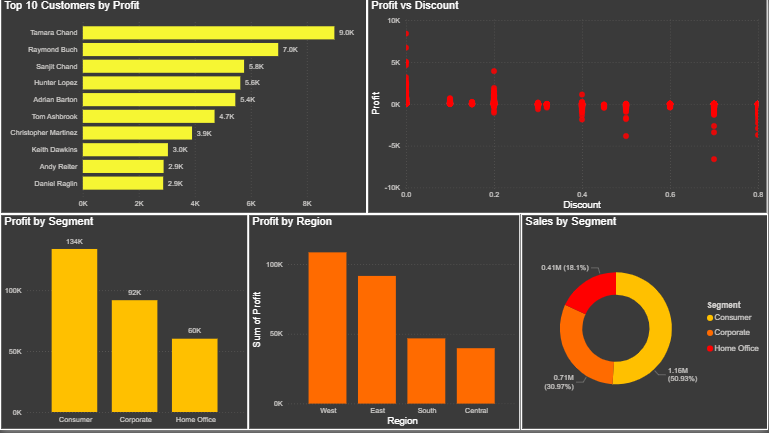

Layout of this report page (visuals, bound fields, positions):
{"tool":"powerbi","page":{"name":"Customer & Profitability ","canvas":[1280,720],"ordinal":2},"visuals":[{"type":"clusteredBarChart","title":"Top 10 Customers by Profit","fields":{"Category":["Sample - Superstore.Customer Name"],"Y":["Sum(Sample - Superstore.Profit)"]},"box":[0,0,612.3,360],"z":0},{"type":"donutChart","title":"Sales by Segment","fields":{"Category":["Sample - Superstore.Segment"],"Y":["Sum(Sample - Superstore.Sales)"]},"box":[867.7,360,412.3,360],"z":1000},{"type":"clusteredColumnChart","title":"Profit by Segment","fields":{"Category":["Sample - Superstore.Segment"],"Y":["Sum(Sample - Superstore.Profit)"]},"box":[0,360,413.8,360],"z":2000},{"type":"clusteredColumnChart","title":"Profit by Region","fields":{"Category":["Sample - Superstore.Region"],"Y":["Sum(Sample - Superstore.Profit)"]},"box":[413.8,360,453.8,360],"z":3000},{"type":"scatterChart","title":"Profit vs Discount","fields":{"X":["Sample - Superstore.Discount"],"Y":["Sample - Superstore.Profit"]},"box":[612.3,0,667.7,360],"z":4000}]}

Visuals, with their boxes in screenshot pixels (x1, y1, x2, y2), scaled from the page's 1280x720 canvas onto the 769x433 screenshot:
"Top 10 Customers by Profit" clusteredBarChart: box=[0, 0, 368, 216]
"Sales by Segment" donutChart: box=[521, 216, 768, 432]
"Profit by Segment" clusteredColumnChart: box=[0, 216, 249, 432]
"Profit by Region" clusteredColumnChart: box=[249, 216, 521, 432]
"Profit vs Discount" scatterChart: box=[368, 0, 768, 216]
